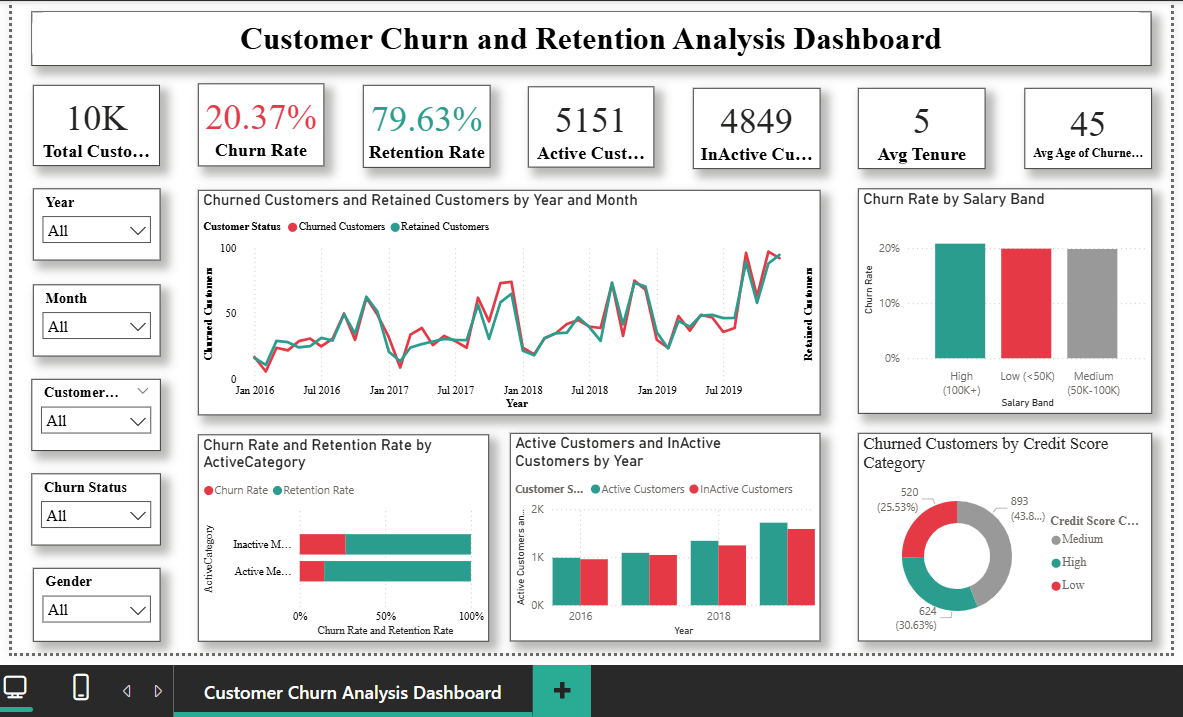

What the dashboard file says about the page in this screenshot:
{"tool":"powerbi","page":{"name":"Customer Churn Analysis Dashboard","canvas":[1280,720],"ordinal":0},"visuals":[{"type":"card","fields":{"Values":["Bank_Churn.Total Customers"]},"box":[23.2,93,140,89.4],"z":0},{"type":"shape","box":[21.7,11.7,1236.7,60],"z":1000},{"type":"card","fields":{"Values":["Bank_Churn.Retention Rate"]},"box":[387.1,93.3,140.8,91.1],"z":2000},{"type":"card","fields":{"Values":["Bank_Churn.Active Customers"]},"box":[570.3,95.2,139.1,89.4],"z":3000},{"type":"card","fields":{"Values":["Bank_Churn.InActive Customers"]},"box":[751.8,95.5,140.8,89.4],"z":4000},{"type":"card","fields":{"Values":["Bank_Churn.Churn Rate"]},"box":[205.6,91.1,139.1,91.1],"z":5000},{"type":"slicer","fields":{"Values":["Bank_Churn.Year"]},"box":[23.2,207.1,140.8,79.5],"z":6000},{"type":"slicer","fields":{"Values":["Bank_Churn.Month"]},"box":[23.2,313.1,140.8,79.5],"z":7000},{"type":"slicer","fields":{"Values":["ActiveCustomer.ActiveCategory"]},"box":[21.5,417.4,142.5,79.5],"z":8000},{"type":"slicer","fields":{"Values":["Exit_Customers.ExitCategory"]},"box":[21.5,521.8,142.5,79.5],"z":9000},{"type":"slicer","fields":{"Values":["Gender.GenderCategory"]},"box":[23.2,626.1,140.8,81.2],"z":10000},{"type":"lineChart","fields":{"Category":["Bank_Churn.Bank DOJ.Variation.Date Hierarchy.Year","Bank_Churn.Bank DOJ.Variation.Date Hierarchy.Month"],"Y":["Bank_Churn.Churned Customers"],"Y2":["Bank_Churn.Retained Customers"]},"box":[205.4,208.7,687.4,248.5],"z":11000},{"type":"barChart","fields":{"Category":["ActiveCustomer.ActiveCategory","Gender.GenderCategory","Credit_Card Holders.Category","Geography.GeographyLocation","Bank_Churn.Age Group"],"Y":["Bank_Churn.Churn Rate","Bank_Churn.Retention Rate"]},"box":[205.4,478.7,321.4,228.6],"z":12000},{"type":"donutChart","fields":{"Category":["Bank_Churn.Credit Score Category","Geography.GeographyLocation","ActiveCustomer.ActiveCategory","Gender.GenderCategory"],"Y":["Bank_Churn.Churned Customers"]},"box":[934.3,477.1,324.7,230.3],"z":13000},{"type":"clusteredColumnChart","fields":{"Category":["Bank_Churn.Salary Band"],"Y":["Bank_Churn.Churn Rate"]},"box":[934.3,207.1,324.7,248.5],"z":14000},{"type":"card","fields":{"Values":["Bank_Churn.Avg Age of Churned Customers"]},"box":[1118.1,96.1,140.8,89.4],"z":15000},{"type":"clusteredColumnChart","fields":{"Category":["Bank_Churn.Bank DOJ.Variation.Date Hierarchy.Year"],"Y":["Bank_Churn.Active Customers","Bank_Churn.InActive Customers"]},"box":[550,477.1,342.9,230.3],"z":16000},{"type":"card","fields":{"Values":["Bank_Churn.Avg Tenure"]},"box":[934.3,96.1,140.8,89.4],"z":17000}]}

Visuals, with their boxes in screenshot pixels (x1, y1, x2, y2):
card - Bank_Churn.Total Customers: <bbox>27, 82, 155, 163</bbox>
shape: <bbox>26, 8, 1153, 62</bbox>
card - Bank_Churn.Retention Rate: <bbox>359, 82, 487, 165</bbox>
card - Bank_Churn.Active Customers: <bbox>526, 84, 653, 165</bbox>
card - Bank_Churn.InActive Customers: <bbox>691, 84, 820, 165</bbox>
card - Bank_Churn.Churn Rate: <bbox>194, 80, 320, 163</bbox>
slicer - Bank_Churn.Year: <bbox>27, 186, 156, 258</bbox>
slicer - Bank_Churn.Month: <bbox>27, 282, 156, 355</bbox>
slicer - ActiveCustomer.ActiveCategory: <bbox>26, 377, 156, 450</bbox>
slicer - Exit_Customers.ExitCategory: <bbox>26, 473, 156, 545</bbox>
slicer - Gender.GenderCategory: <bbox>27, 568, 156, 642</bbox>
lineChart - Bank_Churn.Bank DOJ.Variation.Date Hierarchy.Year x Bank_Churn.Bank DOJ.Variation.Date Hierarchy.Month: <bbox>193, 187, 820, 414</bbox>
barChart - ActiveCustomer.ActiveCategory x Gender.GenderCategory: <bbox>193, 433, 486, 642</bbox>
donutChart - Bank_Churn.Credit Score Category x Geography.GeographyLocation: <bbox>858, 432, 1154, 642</bbox>
clusteredColumnChart - Bank_Churn.Salary Band x Bank_Churn.Churn Rate: <bbox>858, 186, 1154, 412</bbox>
card - Bank_Churn.Avg Age of Churned Customers: <bbox>1025, 85, 1154, 166</bbox>
clusteredColumnChart - Bank_Churn.Bank DOJ.Variation.Date Hierarchy.Year x Bank_Churn.Active Customers: <bbox>507, 432, 820, 642</bbox>
card - Bank_Churn.Avg Tenure: <bbox>858, 85, 986, 166</bbox>
